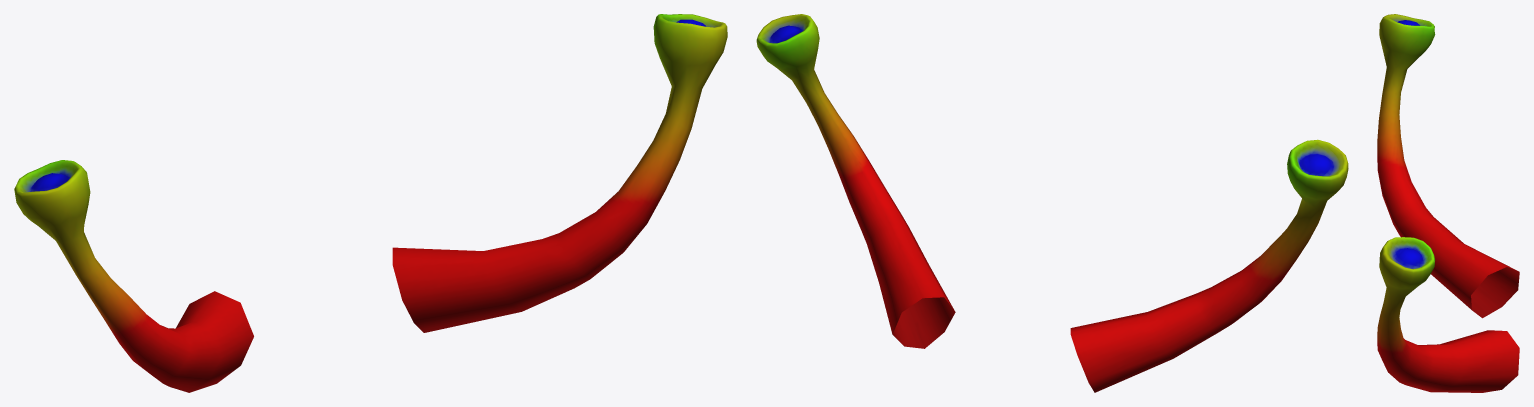
The model's file is BSMC_Outfit_Head_AlienAttena_2338.obj.
3 renders of one model, left to right at view 1: azimuth 30°, elevation 25°; view 2: azimuth 150°, elevation 25°; view 3: azimuth 270°, elevation 25°, orthographic. The views are drawn at different scales.
Visible parts, largest first — view 1: BSMC_Outfit_Head_AlienAttena_0; view 2: BSMC_Outfit_Head_AlienAttena_0; view 3: BSMC_Outfit_Head_AlienAttena_0.
Part boxes in pixels (box(x1,y1,x2,y2)): BSMC_Outfit_Head_AlienAttena_0: box(14, 14, 727, 392); BSMC_Outfit_Head_AlienAttena_0: box(756, 14, 1348, 392); BSMC_Outfit_Head_AlienAttena_0: box(1377, 14, 1519, 392).
Bounding box in the file's own units: 0.2414 × 0.1004 × 0.0574.
1 material, 1 textured.
